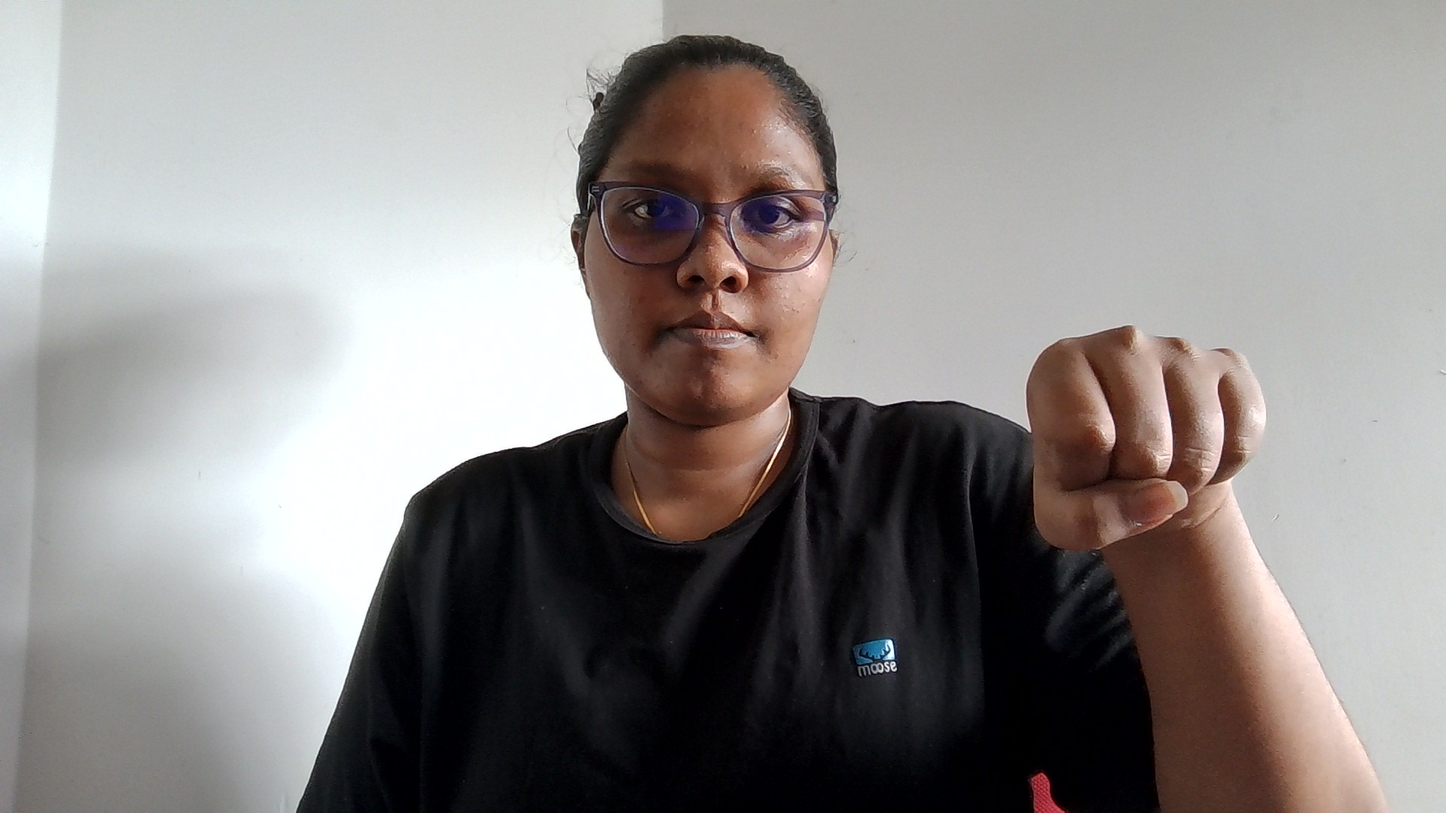Yes: (932, 311, 1338, 670)
